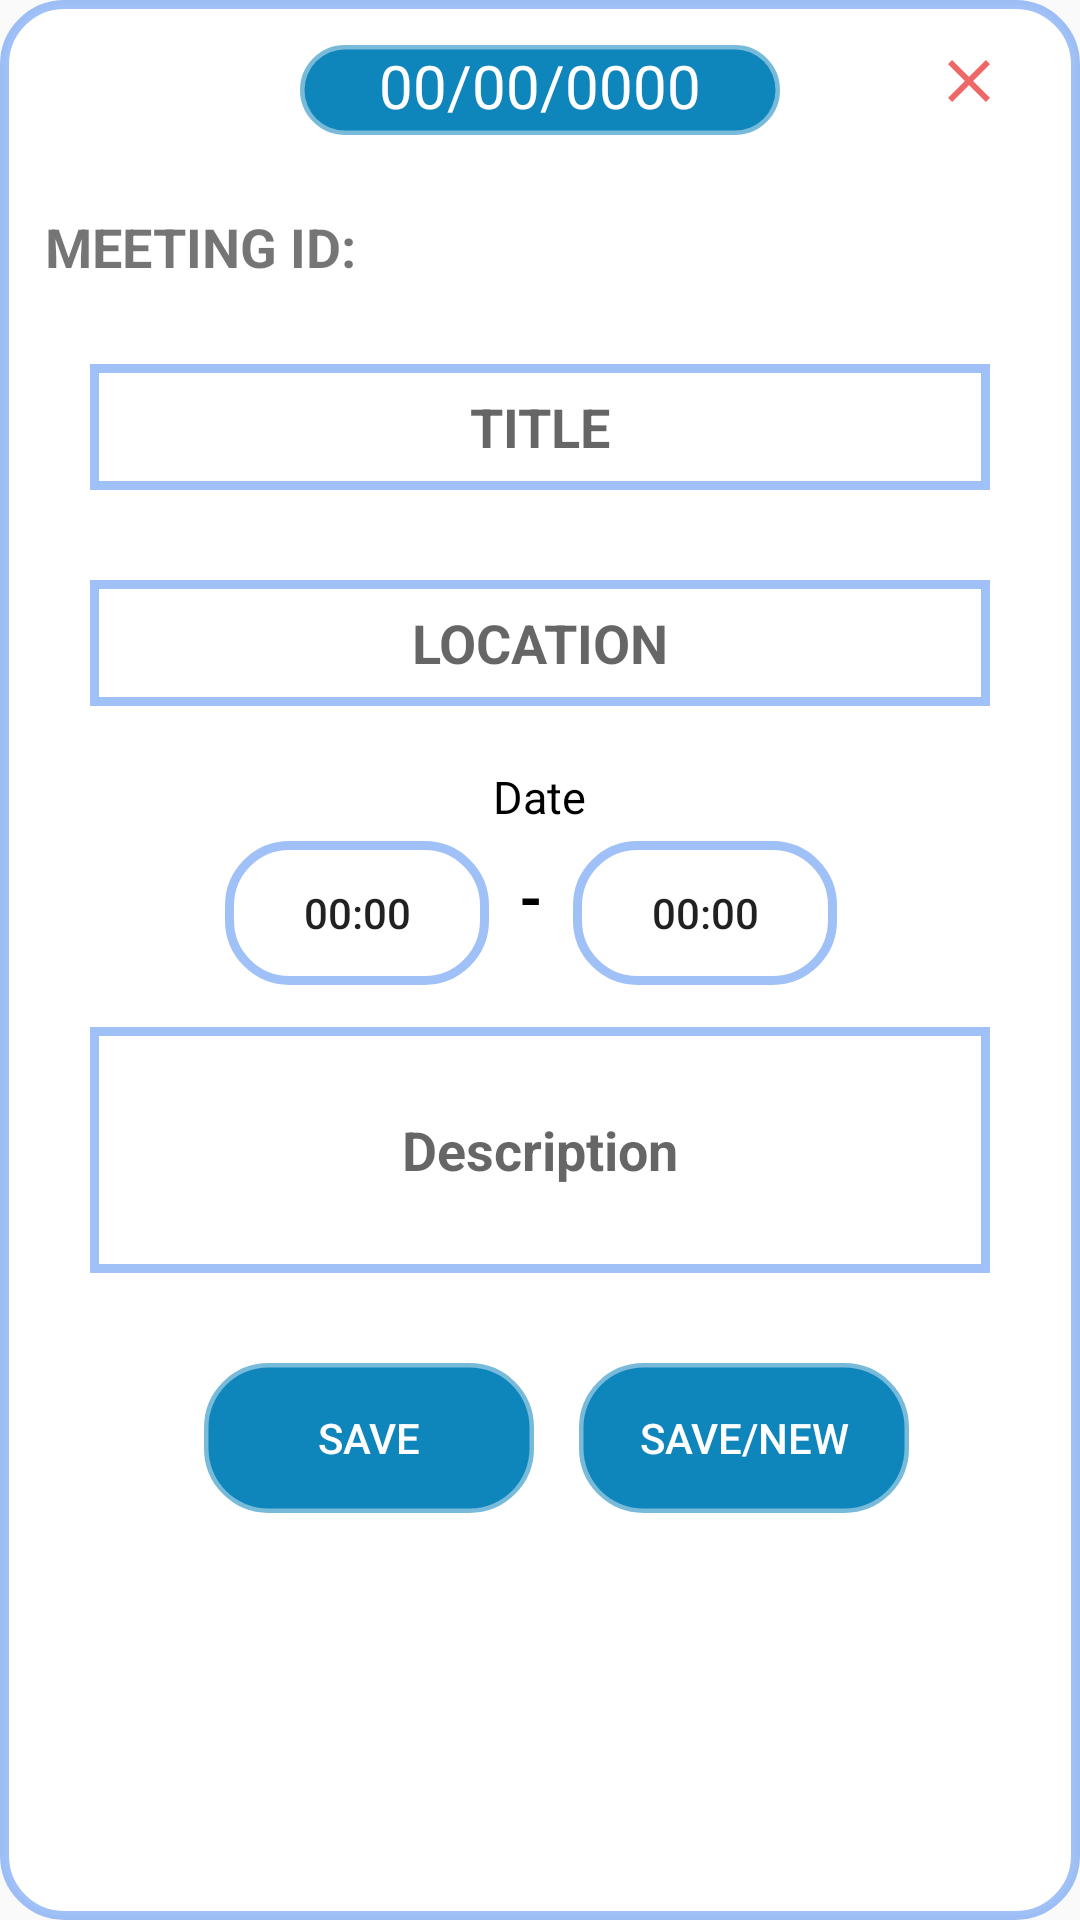

Icon click points for this 1080px x 1920px phone screenshot, format point (x, y):
close: point (969, 81)
